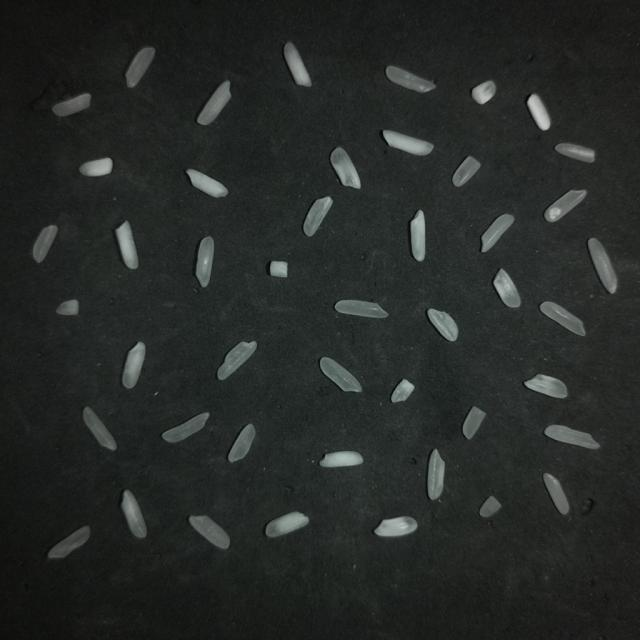broken: (33, 225, 58, 263), (452, 157, 480, 186), (462, 406, 486, 439), (555, 144, 594, 163), (479, 496, 501, 518), (56, 299, 79, 315)
chalky: (382, 130, 433, 156), (330, 147, 361, 189), (186, 169, 228, 198), (121, 490, 146, 538), (284, 42, 311, 86), (304, 197, 333, 236), (115, 221, 138, 269), (265, 512, 309, 537), (122, 342, 145, 388), (524, 374, 567, 398), (494, 269, 520, 308), (427, 309, 458, 341), (527, 94, 550, 130), (374, 517, 417, 536), (410, 210, 425, 261), (79, 157, 113, 176), (472, 81, 496, 104), (391, 379, 414, 403), (270, 261, 288, 278)
foreign: (217, 341, 256, 380)
whole: (588, 239, 617, 293), (540, 302, 585, 336), (197, 81, 231, 125), (162, 412, 209, 443), (83, 407, 116, 450), (320, 357, 361, 391), (189, 515, 229, 549), (385, 66, 435, 93), (544, 190, 586, 222), (48, 526, 90, 558), (544, 425, 599, 449), (125, 47, 155, 88), (482, 214, 514, 252), (228, 424, 255, 462), (544, 474, 569, 514), (335, 300, 388, 318), (196, 237, 214, 287), (52, 93, 91, 116), (427, 449, 444, 499), (319, 451, 363, 467)
